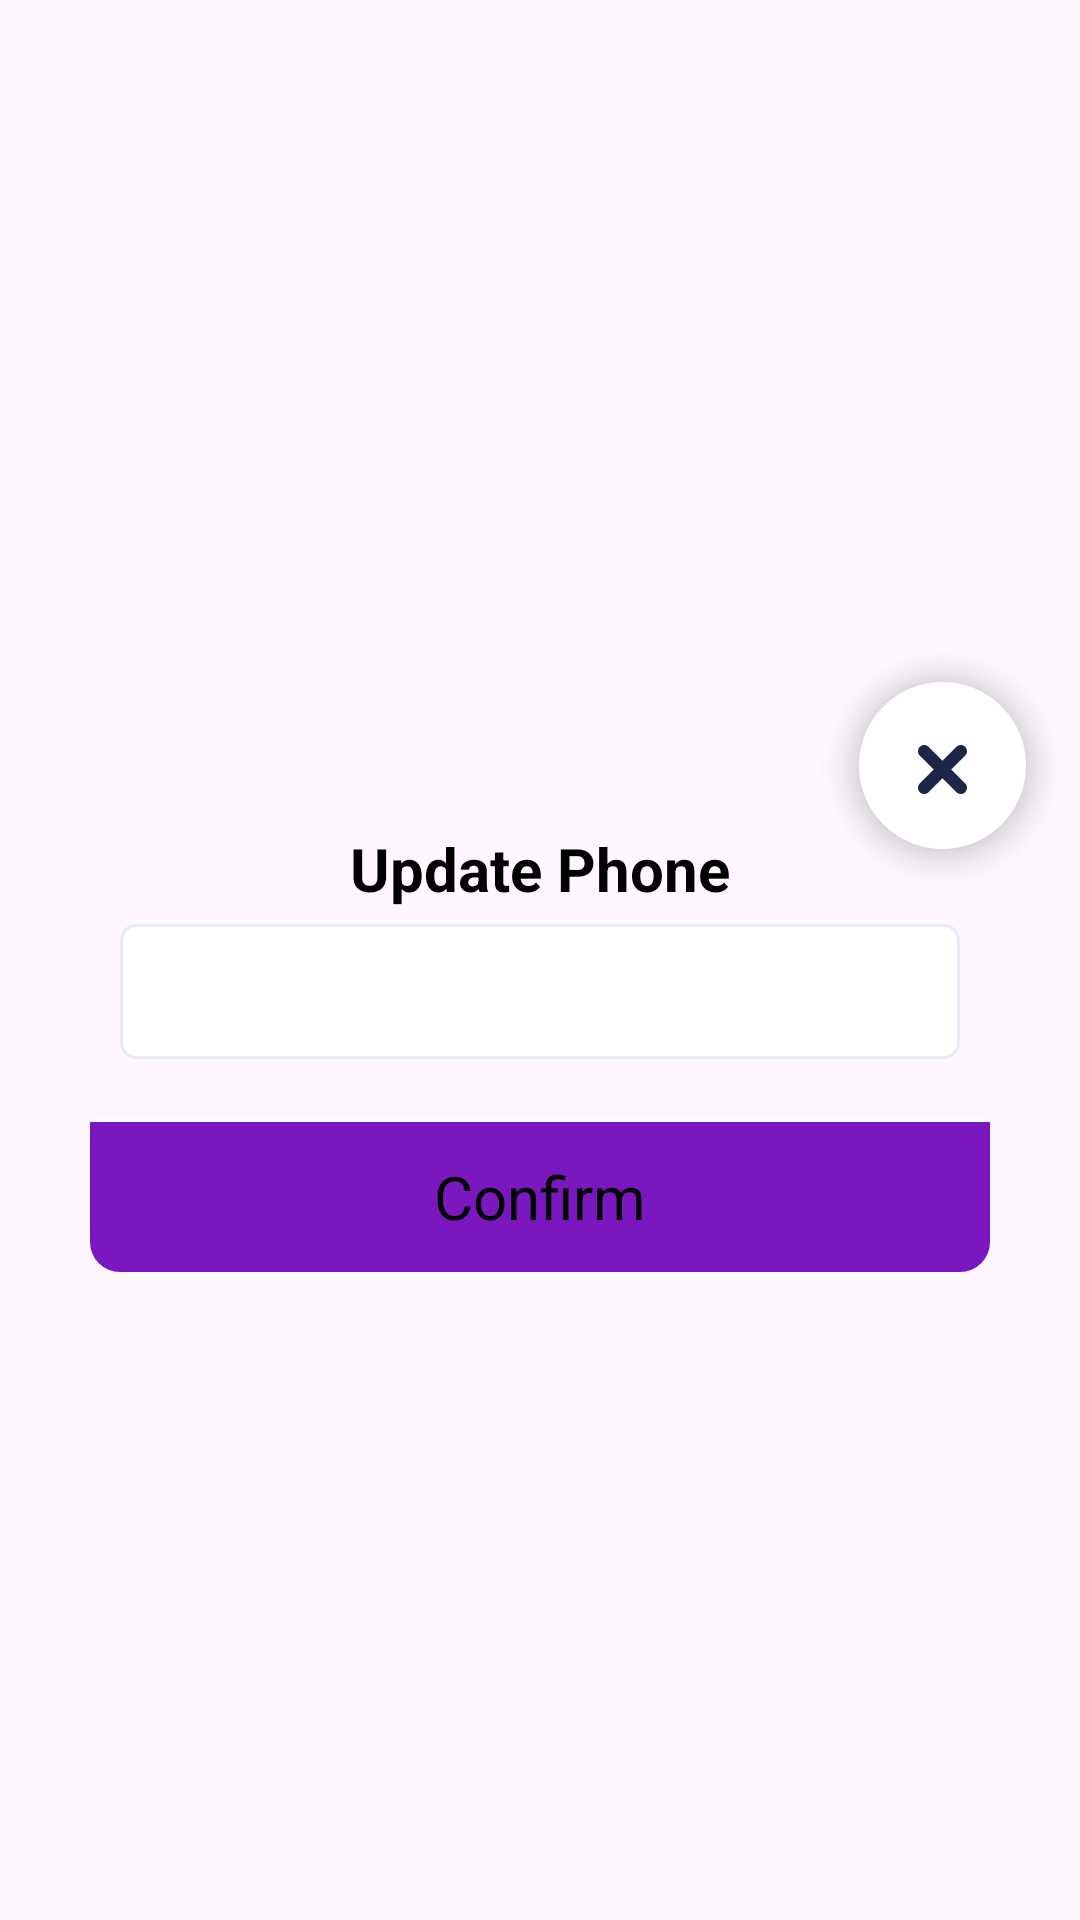

Named icons in this screenshot (1080×1920) and their bounding boxes, (x1=x1, y1=y1, x2=x2, y2=y2):
cross: (x1=838, y1=663, x2=1047, y2=872)
